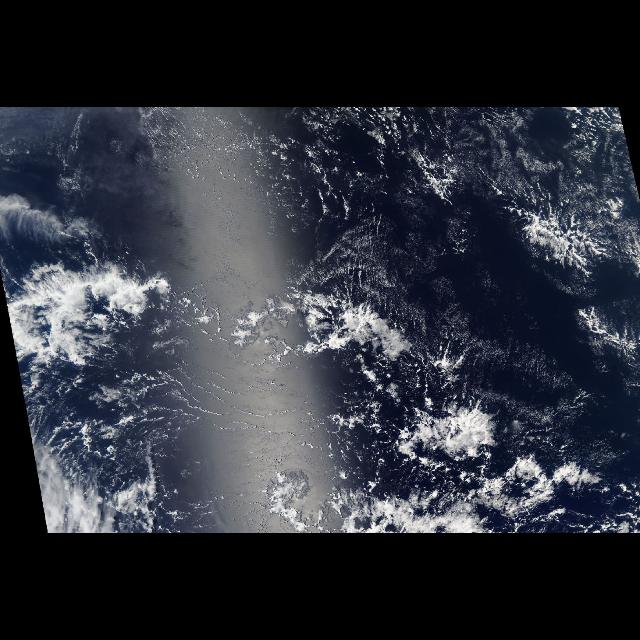Fish: (200, 280, 428, 400), (1, 254, 198, 378)
Gravel: (175, 246, 598, 504)
Sugar: (443, 109, 632, 247)
